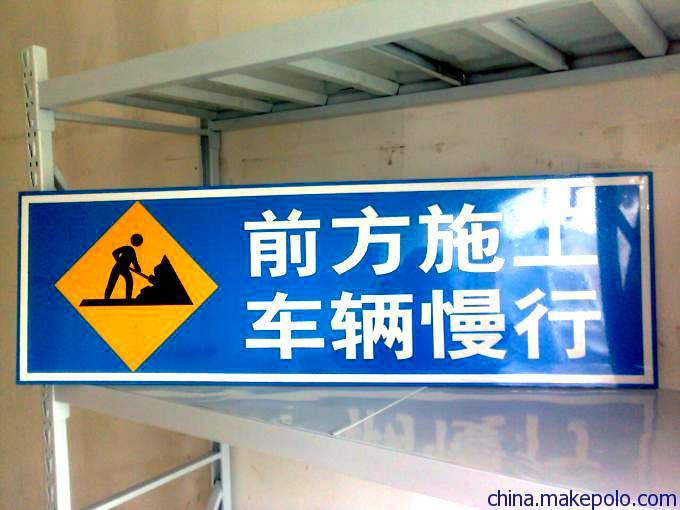sign: (13, 180, 647, 388)
